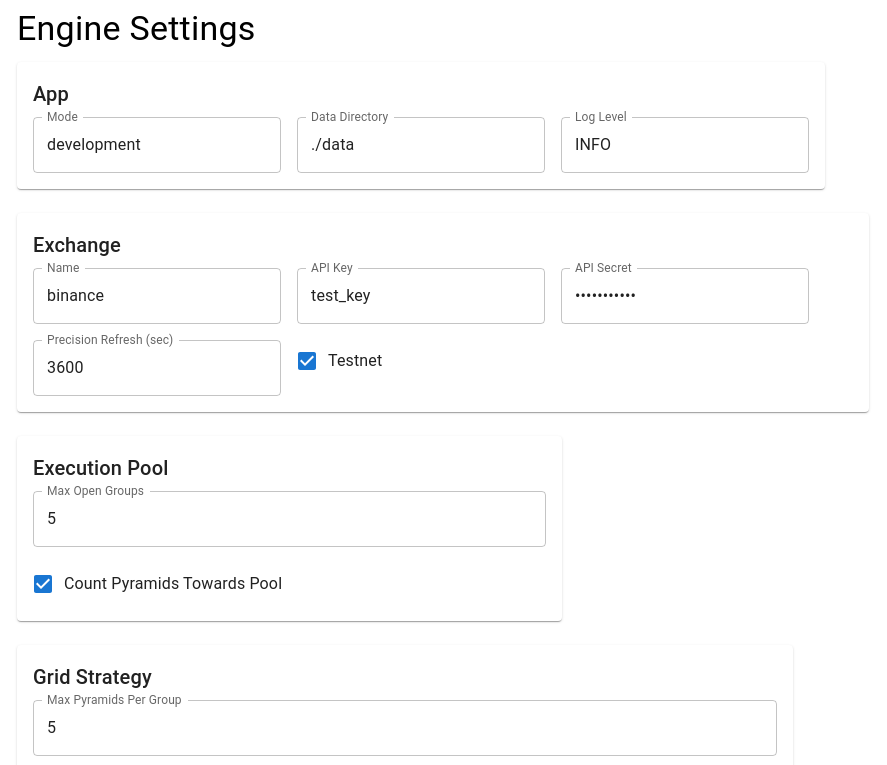
it: SettingsPage Component › submits updated config on form submission
The width and height of the screenshot is (887, 765).
Step 1. Replace the text in the field labelled "Mode" with "production" → point(157, 145), box [33,117,281,173]
(page scrolled)
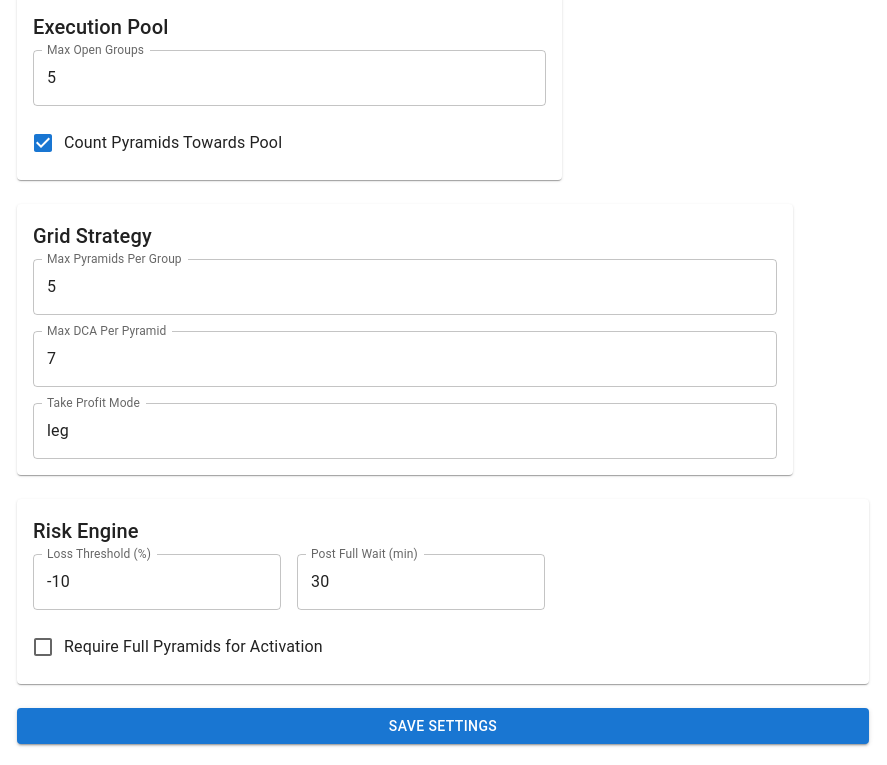
Step 2. Click the button "Save Settings" → point(443, 726), box [17,708,869,744]
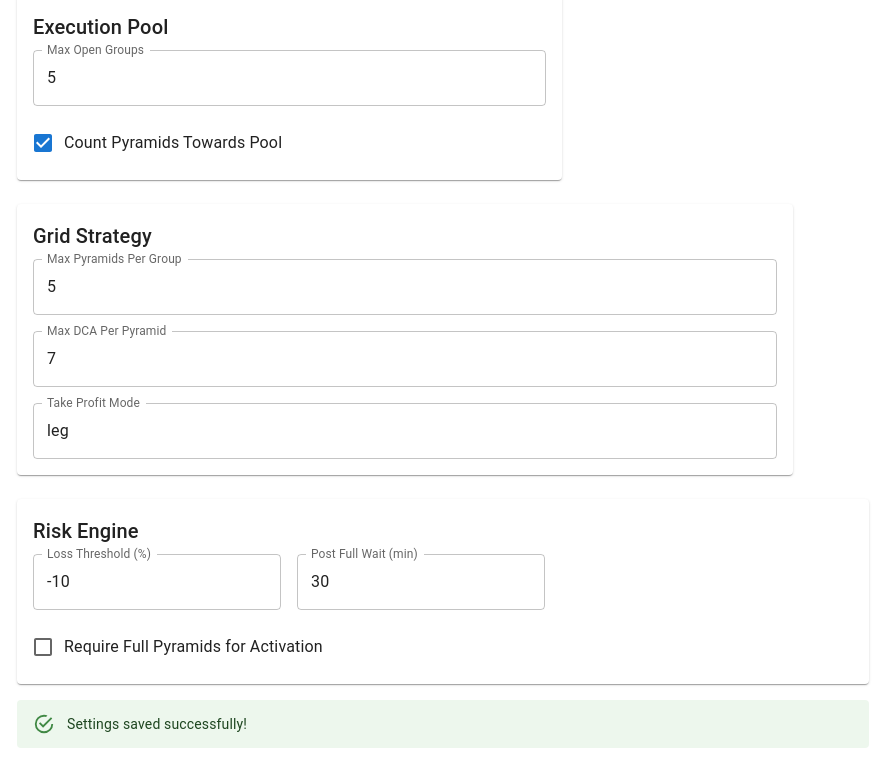
Result: the text "Settings saved successfully!" is shown at [67,716,247,732]
